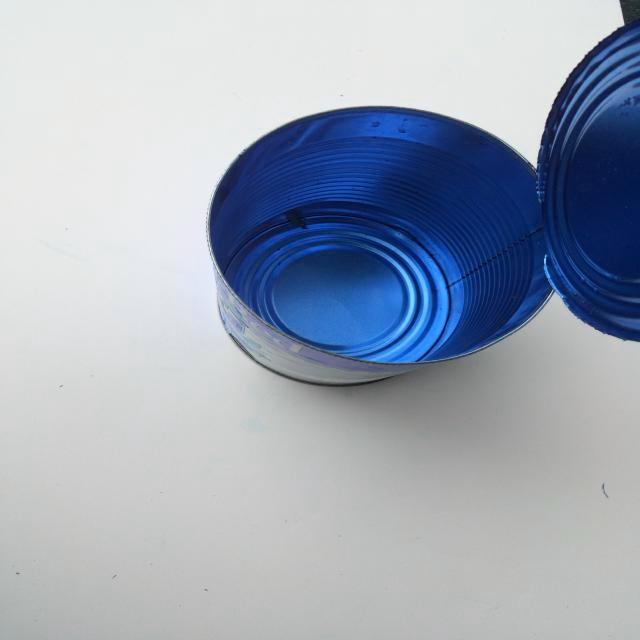metal: (179, 19, 640, 410)
